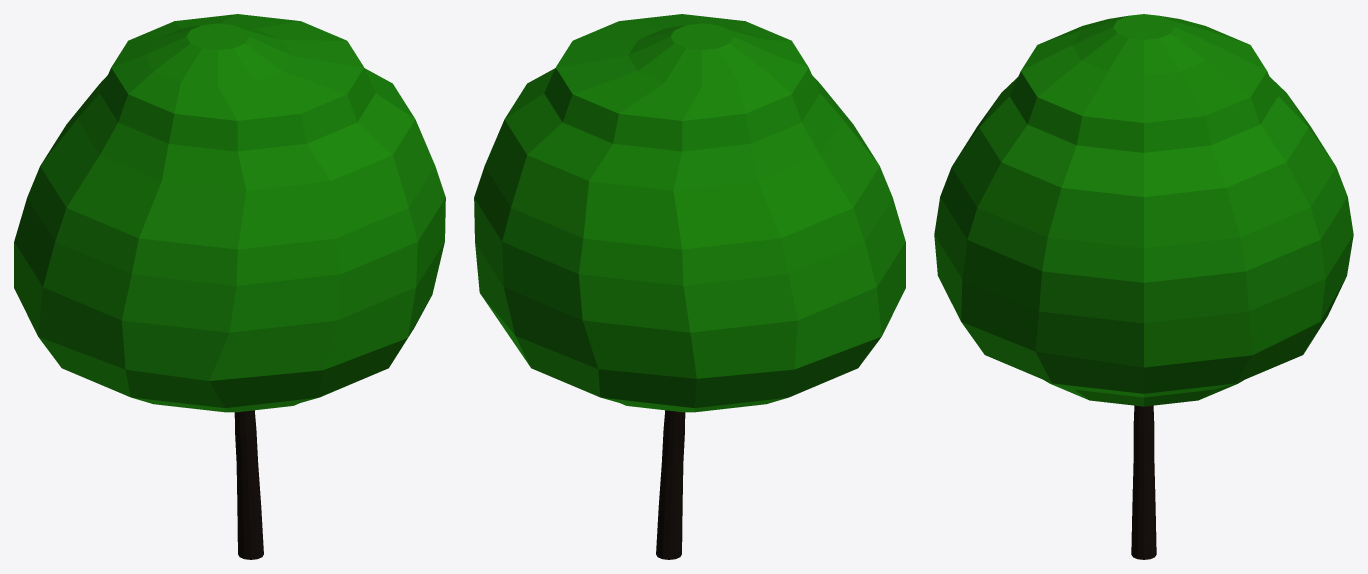
The model's file is tree1.fbx.
3 renders of one model, left to right at view 1: azimuth 30°, elevation 25°; view 2: azimuth 150°, elevation 25°; view 3: azimuth 270°, elevation 25°, orthographic. The views are drawn at different scales.
Parts seen in each view (by area): view 1: Tree; view 2: Tree; view 3: Tree.
Part boxes in pixels (x1,y1,x2,y2): Tree: (14, 14, 445, 559); Tree: (474, 14, 905, 559); Tree: (934, 14, 1353, 559).
Size of the model in its own units: 1271 by 1681 by 1248.
